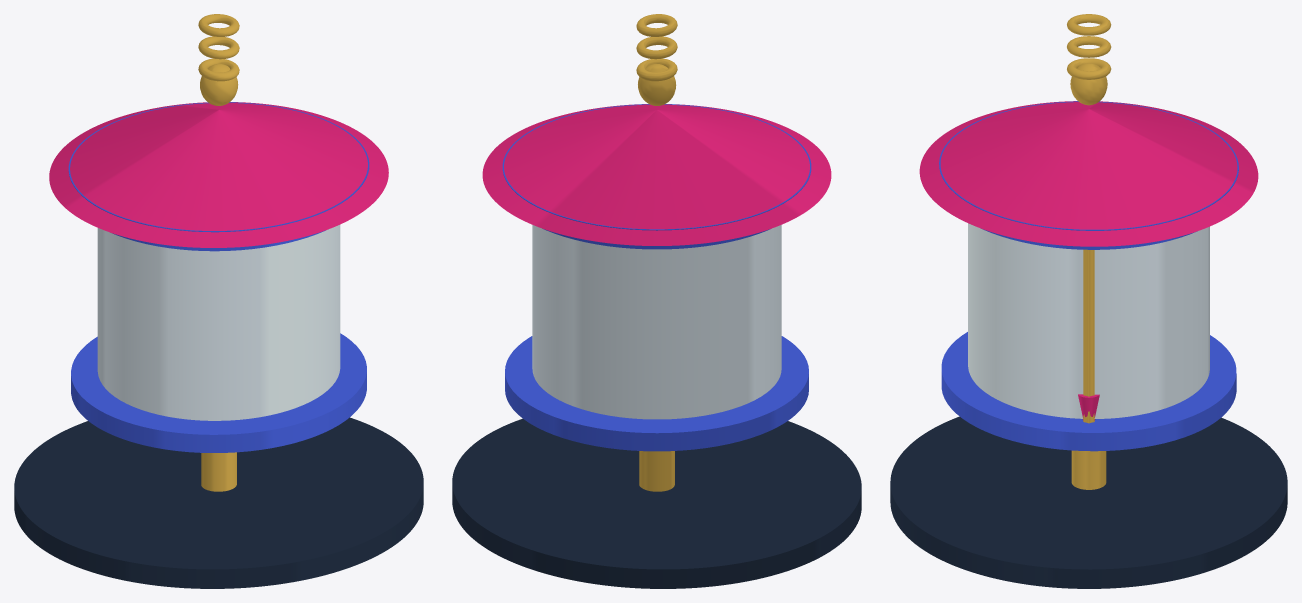
File: 1147_海底两万里_餐具.glb
The picture shows the model from 3 angles, left to right: view 1: azimuth 30°, elevation 25°; view 2: azimuth 150°, elevation 25°; view 3: azimuth 270°, elevation 25°; orthographic projection.
Parts seen in each view (by area): view 1: card_1147; view 2: card_1147; view 3: card_1147.
Boxes of the visible parts, <box> form: card_1147: <box>14,14,423,588</box>; card_1147: <box>452,14,861,588</box>; card_1147: <box>890,14,1287,588</box>.
Size of the model in its own units: 0.776 by 1 by 0.7483.
